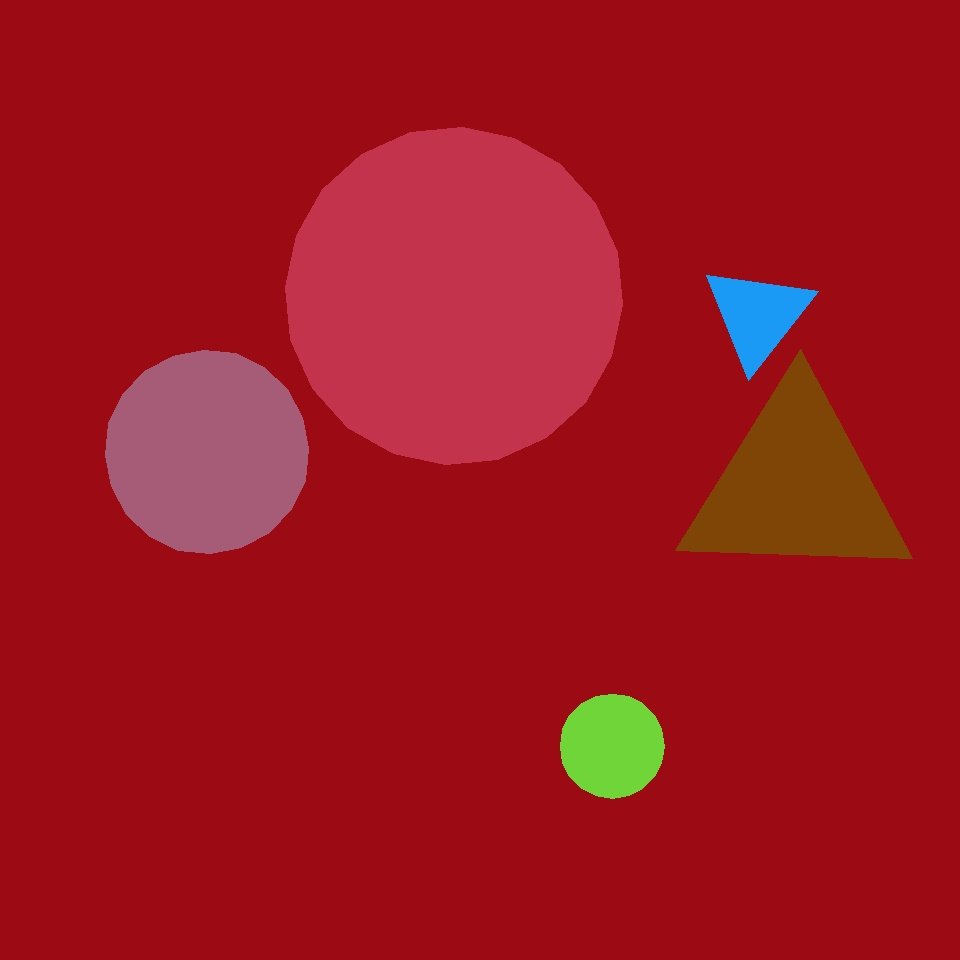circle: (582, 469, 835, 756), (678, 381, 914, 590), (702, 264, 814, 368)
square: (510, 464, 804, 757)
triangle: (286, 128, 622, 464), (106, 350, 308, 554), (559, 662, 670, 774), (560, 694, 664, 798)
